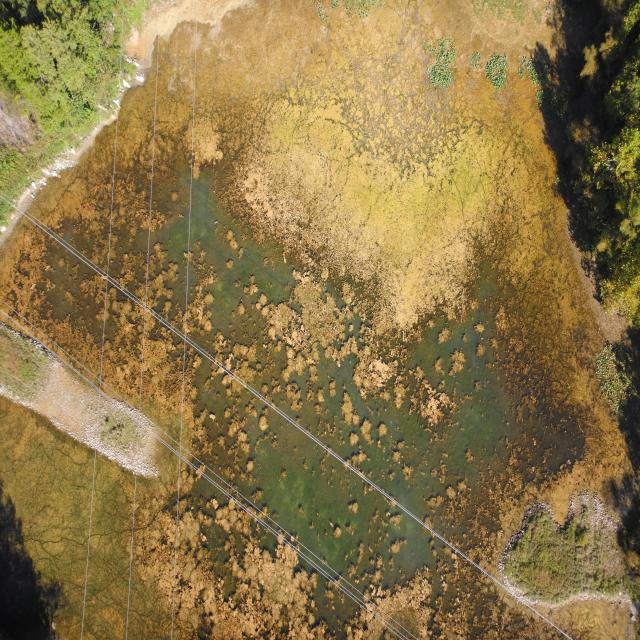Area of Interest: (8, 11, 130, 165)
